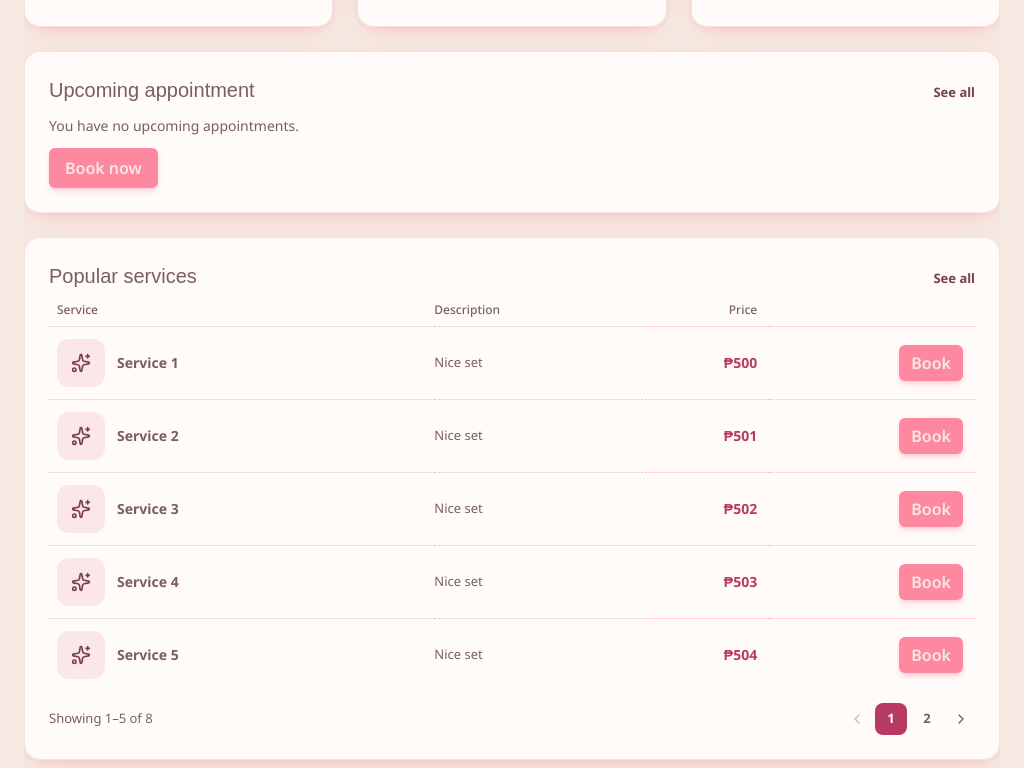
Test: ClientHome › shows the first eight services in their admin order, five a page
The width and height of the screenshot is (1024, 768).
(page scrolled)
Expected: the text "Service 1" is shown, [117,352,179,372]
Expected: the text "Service 5" is shown, [117,644,179,664]
Click the button named "next" at (961, 718), box [947,704,975,732]
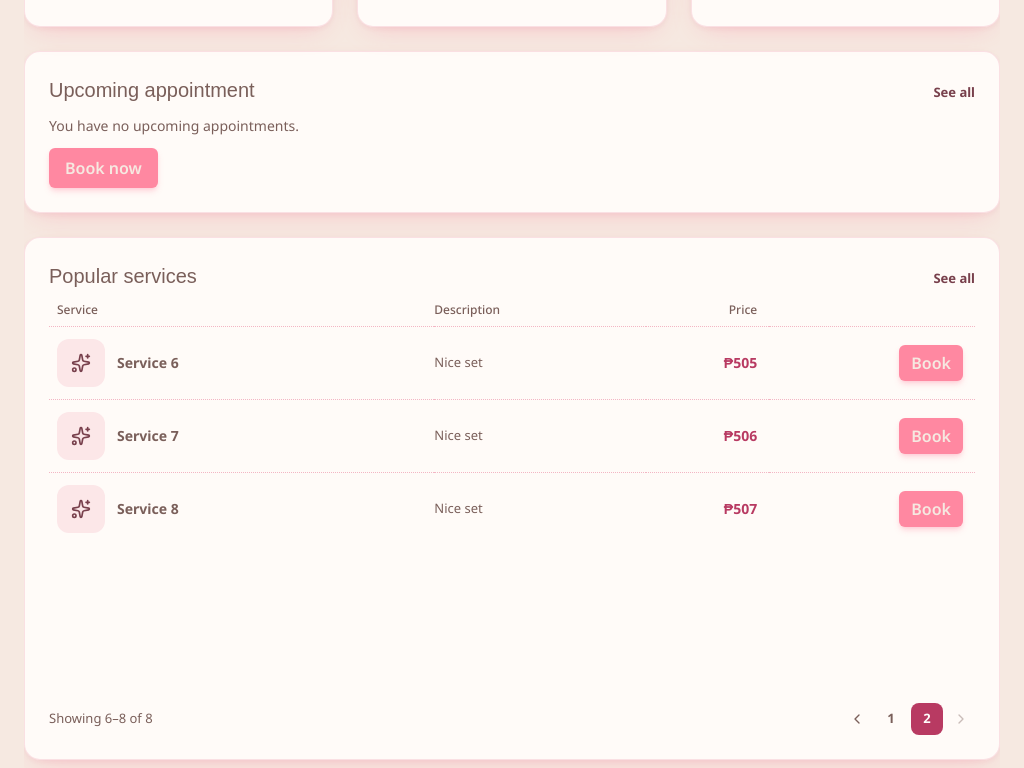
Expected: the text "Service 8" is shown, [117,498,179,518]
